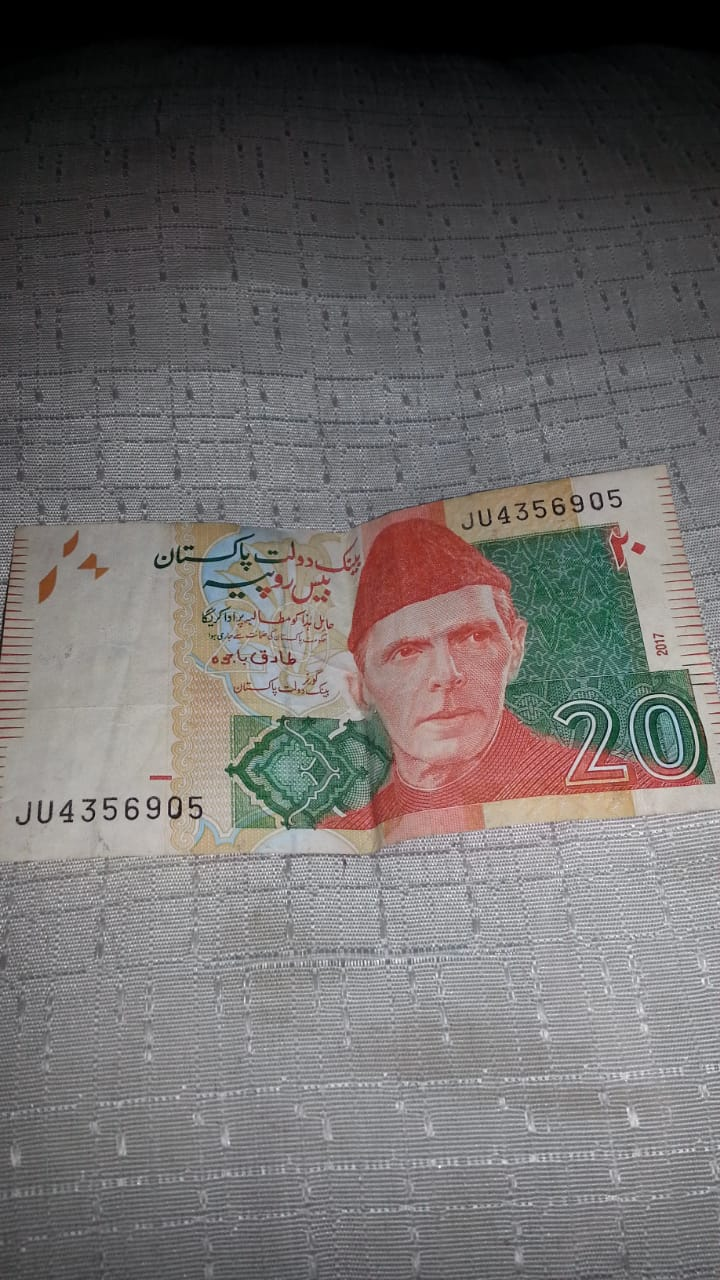20 rupee: (22, 485, 700, 891)
